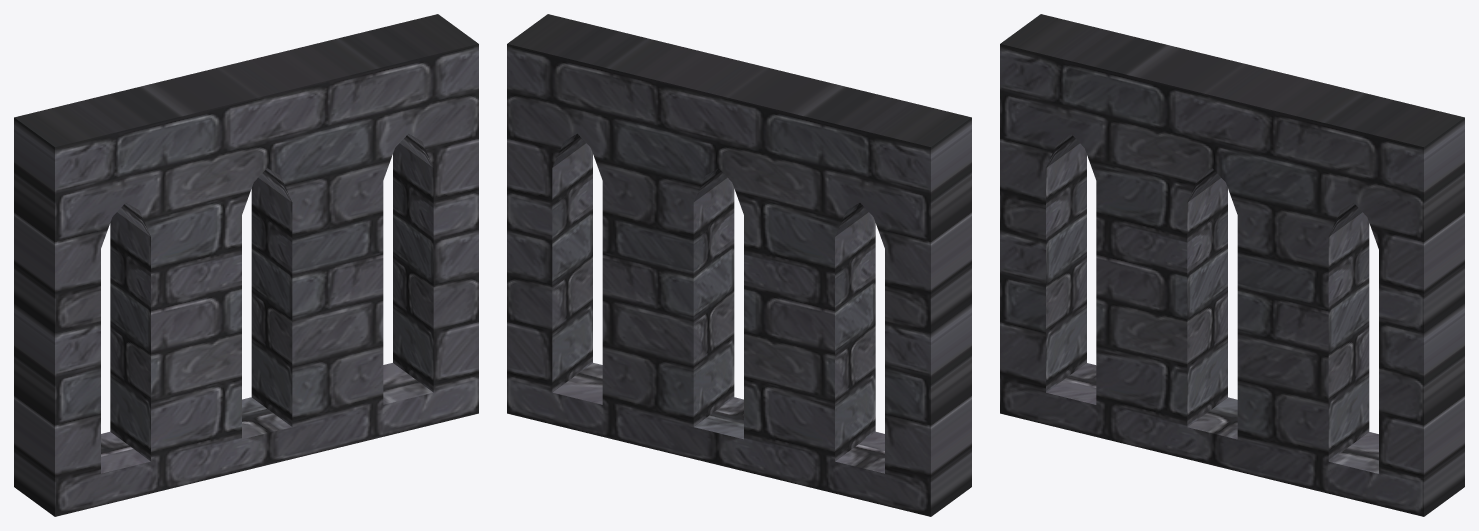
The model's file is e_walltile_10x10_3windows.fbx.
3 renders of one model, left to right at view 1: azimuth 30°, elevation 25°; view 2: azimuth 150°, elevation 25°; view 3: azimuth 330°, elevation 25°, orthographic.
Visible parts, largest first — view 1: polySurface2713; view 2: polySurface2713; view 3: polySurface2713.
Boxes of the visible parts, x1,y1,x2,y2 form: polySurface2713: (14,14,478,516); polySurface2713: (507,14,971,516); polySurface2713: (1000,14,1464,516).
Size of the model in its own units: 3 by 2.5 by 0.5.
